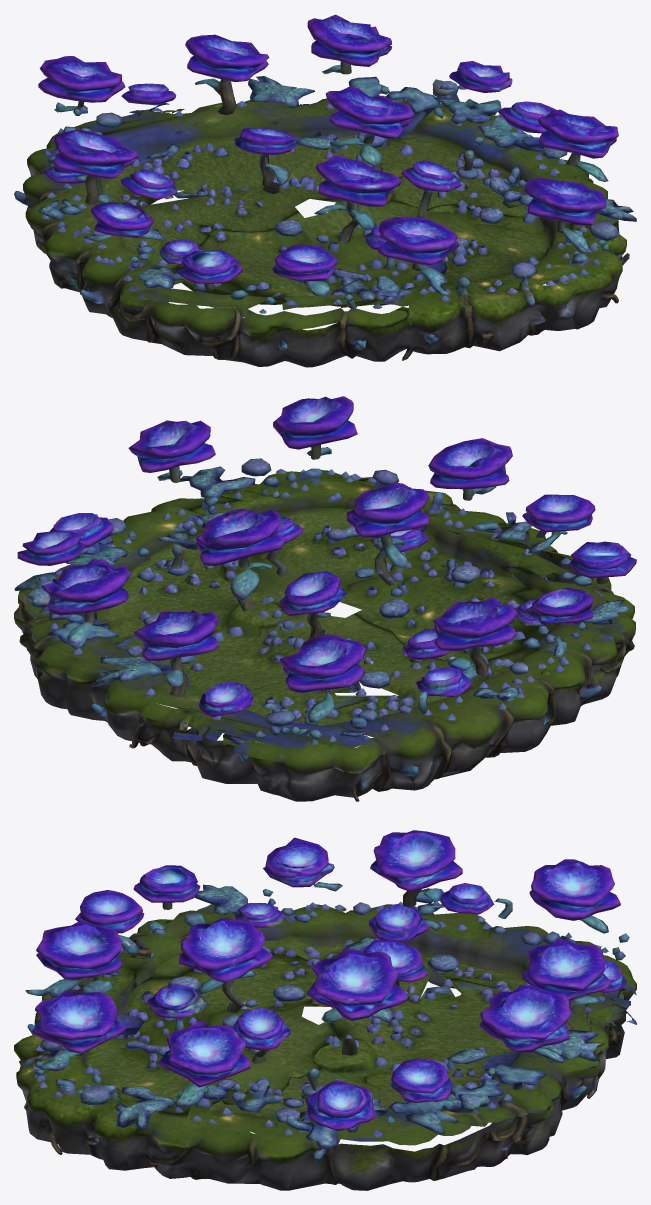
Rendered from flower_field.glb.
The picture shows the model from 3 angles, top to bottom: view 1: azimuth 30°, elevation 25°; view 2: azimuth 150°, elevation 25°; view 3: azimuth 270°, elevation 25°; orthographic projection. The views are drawn at different scales.
Parts seen in each view (by area): view 1: tripo_node_259ab0ad-80cb-4c85-9062-4dfd29817511; view 2: tripo_node_259ab0ad-80cb-4c85-9062-4dfd29817511; view 3: tripo_node_259ab0ad-80cb-4c85-9062-4dfd29817511.
Part boxes in pixels (x1,y1,x2,y2): tripo_node_259ab0ad-80cb-4c85-9062-4dfd29817511: (14,14,636,367); tripo_node_259ab0ad-80cb-4c85-9062-4dfd29817511: (14,396,636,801); tripo_node_259ab0ad-80cb-4c85-9062-4dfd29817511: (14,830,636,1190).
Size of the model in its own units: 0.9687 by 0.2466 by 1.
Materials: 1 (1 with a texture image).
